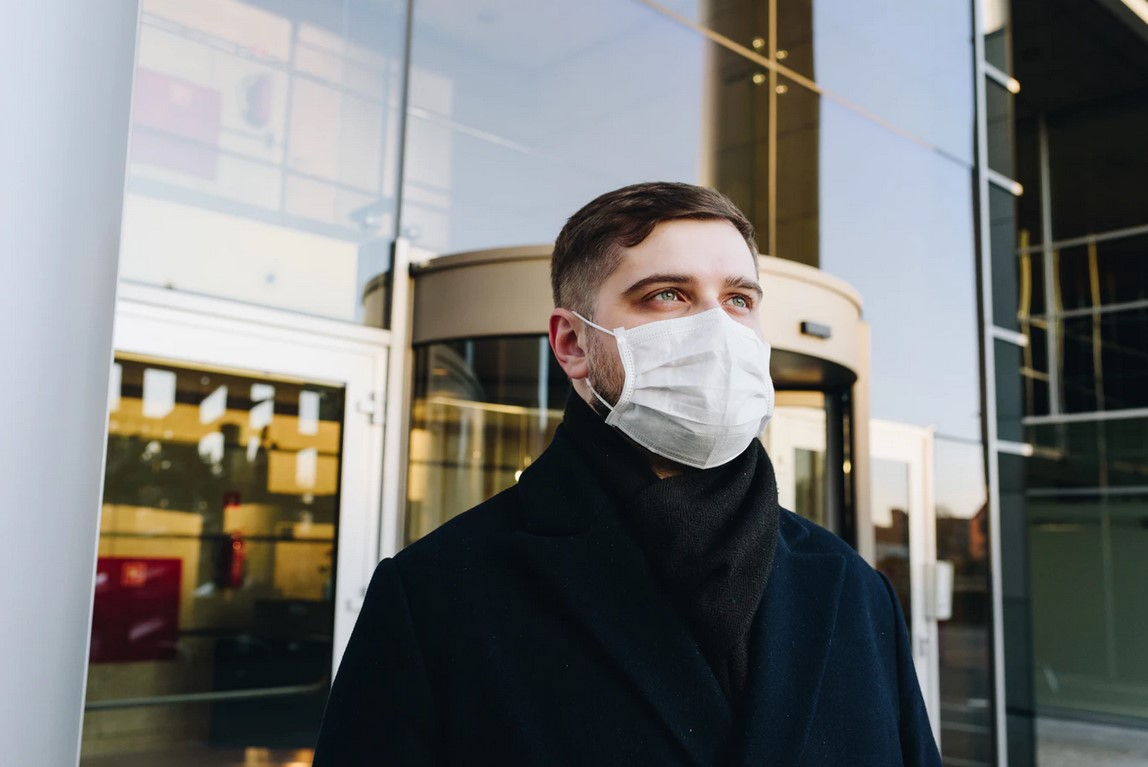face_with_mask: (552, 169, 809, 468)
